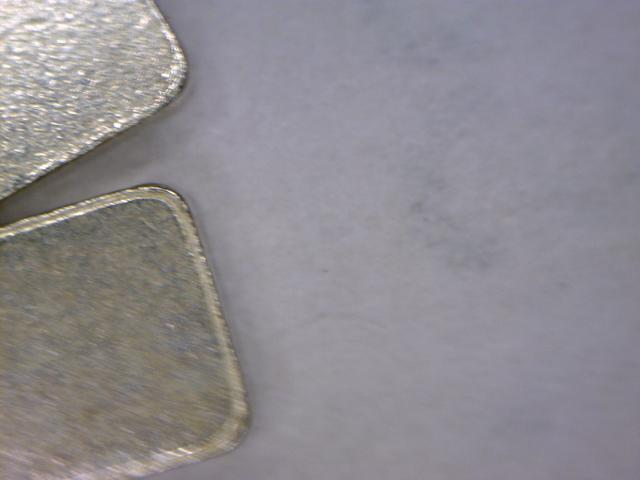nok: (3, 178, 261, 476)
